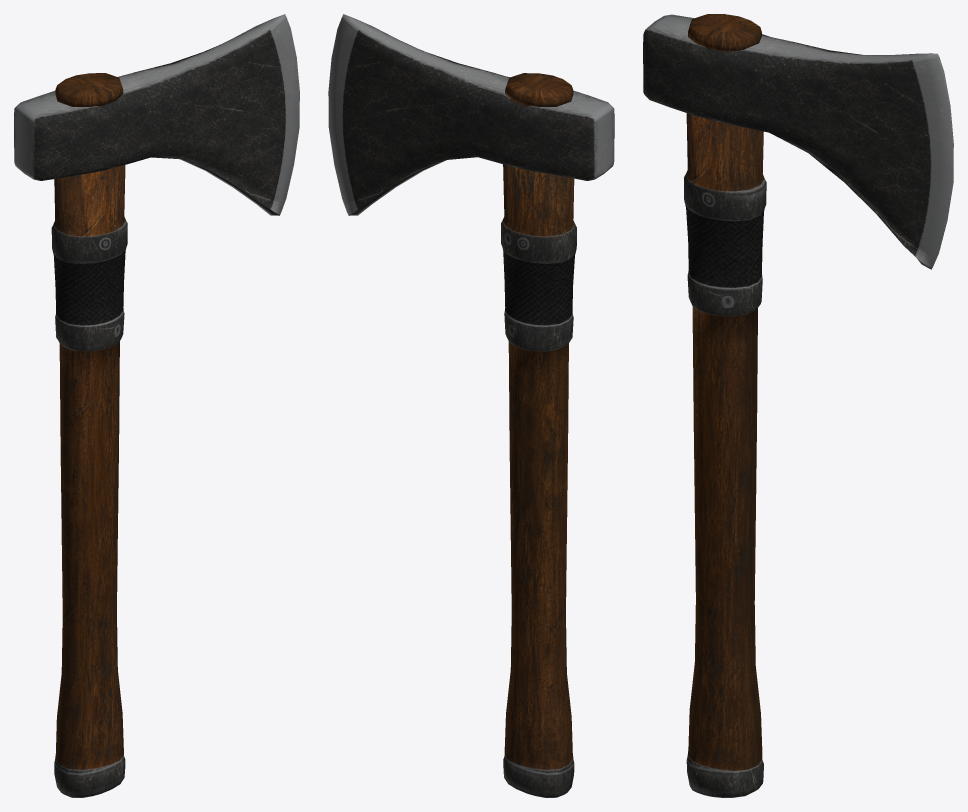
The model's file is Hatchet_StraightHandle.glb.
The picture shows the model from 3 angles, left to right: view 1: azimuth 30°, elevation 25°; view 2: azimuth 150°, elevation 25°; view 3: azimuth 330°, elevation 25°; orthographic projection. The views are drawn at different scales.
Visible parts, largest first — view 1: Hatchet_StraightHandle_Export; view 2: Hatchet_StraightHandle_Export; view 3: Hatchet_StraightHandle_Export.
Boxes of the visible parts, x1,y1,x2,y2 form: Hatchet_StraightHandle_Export: [14, 14, 299, 797]; Hatchet_StraightHandle_Export: [328, 14, 614, 797]; Hatchet_StraightHandle_Export: [643, 14, 953, 797].
Bounding box in the file's own units: 0.3991 × 1 × 0.0862.
1 material, 1 textured.
